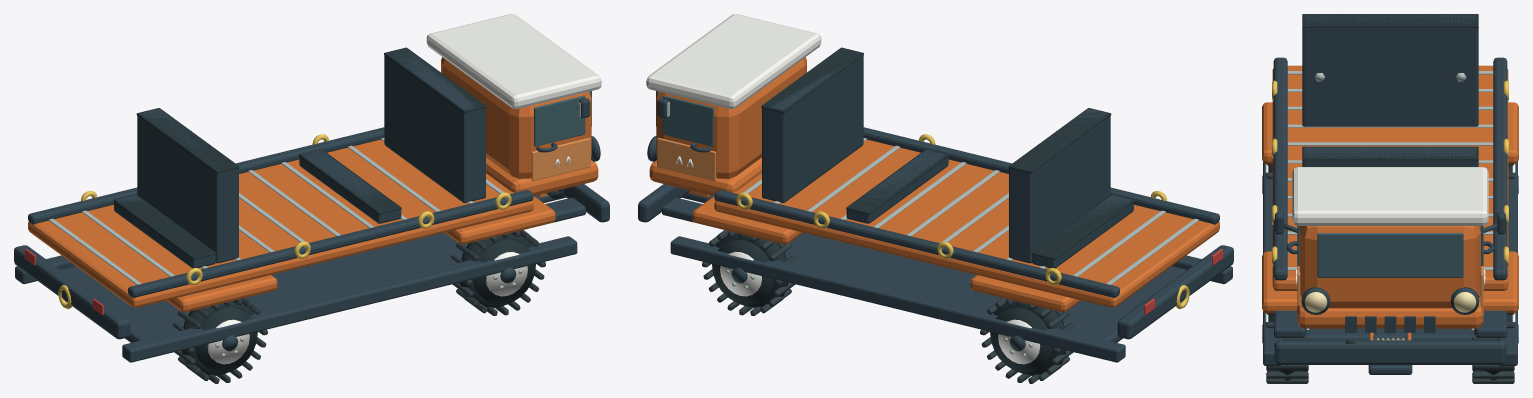
The model's file is truck.glb.
3 views of the same model, side by side, from view 1: azimuth 30°, elevation 25°; view 2: azimuth 150°, elevation 25°; view 3: azimuth 270°, elevation 25° (orthographic). The views are drawn at different scales.
Parts seen in each view (by area): view 1: tyaga-truck-surface, cargo-support-high-surface, cargo-support-low-surface, wheel-rr-surface, wheel-fr-surface; view 2: tyaga-truck-surface, cargo-support-high-surface, cargo-support-low-surface, wheel-rl-surface, wheel-fl-surface; view 3: tyaga-truck-surface, cargo-support-high-surface, wheel-fl-surface, wheel-fr-surface, front-winch-surface.
Part boxes in pixels (left/top/right/bottom): tyaga-truck-surface: left=14, top=14, right=609, bottom=362; cargo-support-high-surface: left=136, top=47, right=486, bottom=263; cargo-support-low-surface: left=113, top=149, right=401, bottom=268; wheel-rr-surface: left=173, top=298, right=267, bottom=383; wheel-fr-surface: left=451, top=230, right=545, bottom=315; tyaga-truck-surface: left=638, top=14, right=1233, bottom=362; cargo-support-high-surface: left=761, top=47, right=1111, bottom=263; cargo-support-low-surface: left=846, top=149, right=1134, bottom=268; wheel-rl-surface: left=980, top=298, right=1074, bottom=383; wheel-fl-surface: left=702, top=230, right=796, bottom=315; tyaga-truck-surface: left=1262, top=57, right=1518, bottom=365; cargo-support-high-surface: left=1302, top=14, right=1478, bottom=166; wheel-fl-surface: left=1471, top=313, right=1518, bottom=383; wheel-fr-surface: left=1262, top=313, right=1309, bottom=383; front-winch-surface: left=1368, top=332, right=1412, bottom=374.
Size of the model in its own units: 6.45 by 2.53 by 2.62.
